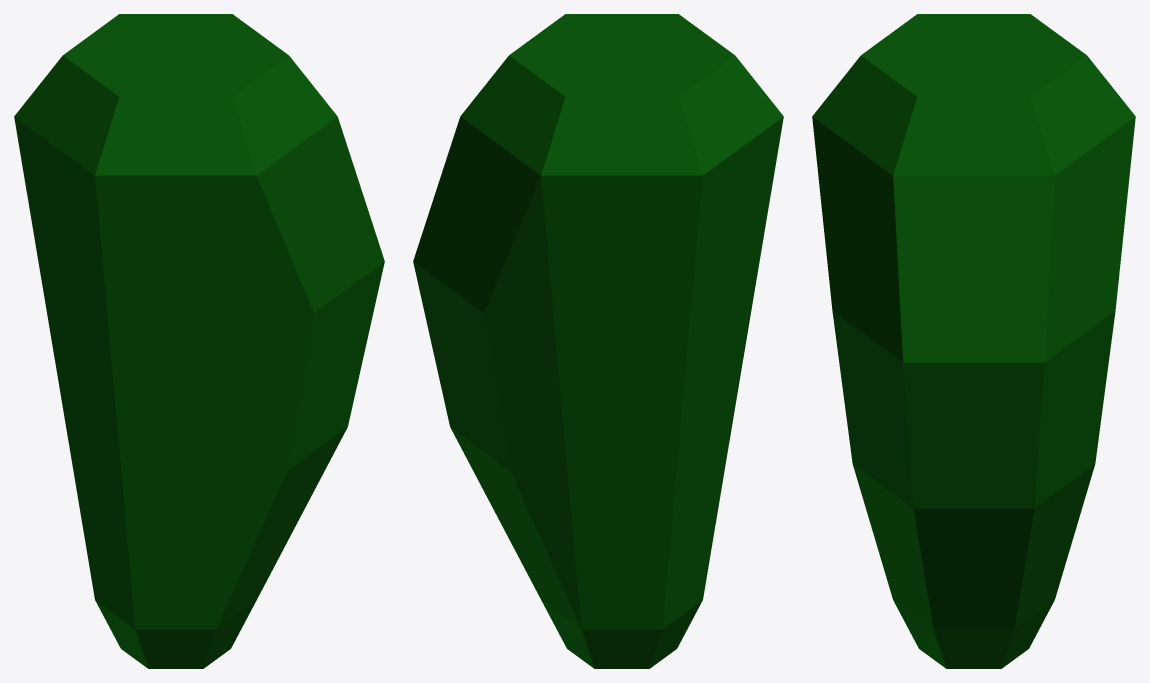
File: jalapenoCollider.obj
3 renders of one model, left to right at view 1: azimuth 30°, elevation 25°; view 2: azimuth 150°, elevation 25°; view 3: azimuth 270°, elevation 25°, orthographic.
Visible parts, largest first — view 1: carrotBody; view 2: carrotBody; view 3: carrotBody.
Part boxes in pixels (x1,y1,x2,y2): carrotBody: (14, 14, 384, 668); carrotBody: (413, 14, 783, 668); carrotBody: (812, 14, 1135, 668).
Size of the model in its own units: 0.1263 by 0.2428 by 0.12.
